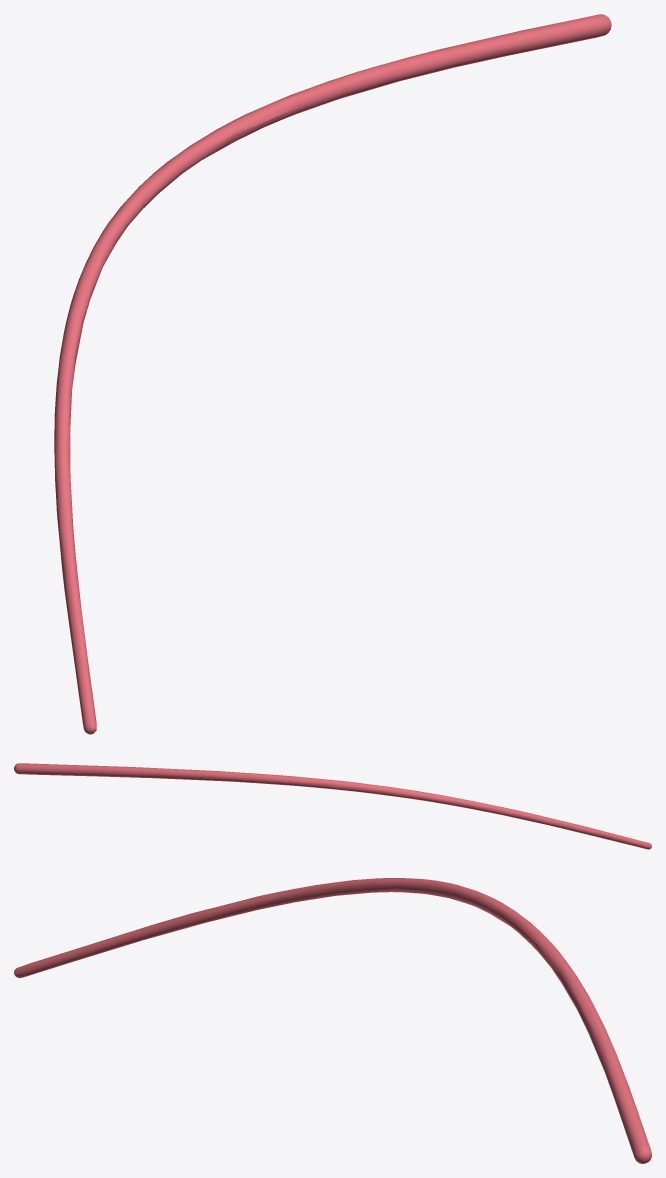
Rendered from fma51018_fj4998.glb.
The picture shows the model from 3 angles, top to bottom: view 1: azimuth 30°, elevation 25°; view 2: azimuth 150°, elevation 25°; view 3: azimuth 270°, elevation 25°; orthographic projection. The views are drawn at different scales.
Parts seen in each view (by area): view 1: FMA51018_FJ4998; view 2: FMA51018_FJ4998; view 3: FMA51018_FJ4998.
Part boxes in pixels (<box>): FMA51018_FJ4998: <box>54,14,611,734</box>; FMA51018_FJ4998: <box>14,763,651,849</box>; FMA51018_FJ4998: <box>14,878,651,1163</box>.
Size of the model in its own units: 0.0367 by 0.0105 by 0.0271.
